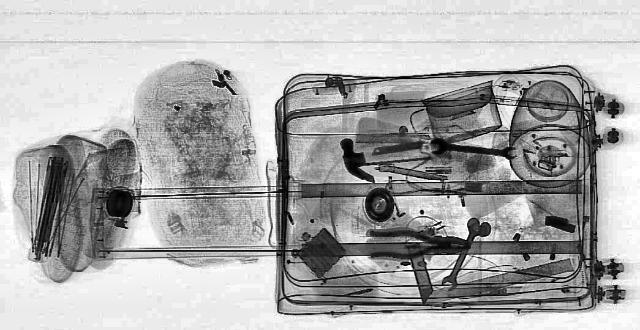Pliers: (366, 229, 469, 259)
Wrench: (439, 223, 486, 291), (426, 138, 520, 160)
